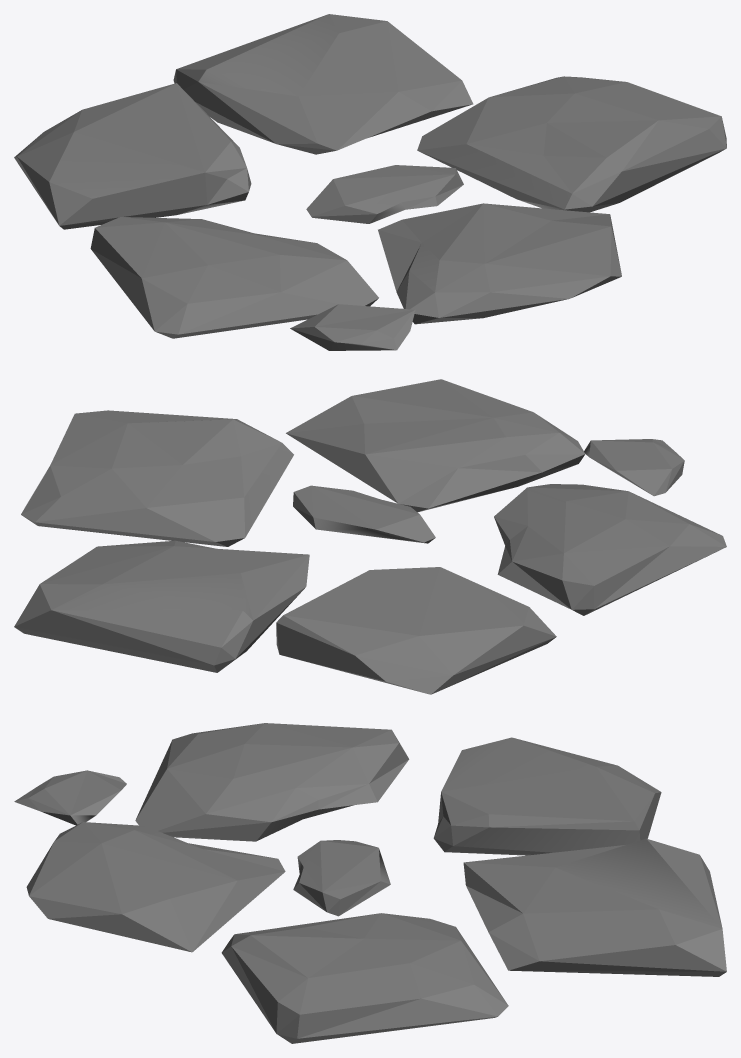
Rendered from Tile_01.fbx.
3 renders of one model, top to bottom at view 1: azimuth 30°, elevation 25°; view 2: azimuth 150°, elevation 25°; view 3: azimuth 270°, elevation 25°, orthographic. The views are drawn at different scales.
Visible parts, largest first — view 1: Tile_01; view 2: Tile_01; view 3: Tile_01.
Part boxes in pixels (bbox=[...]): Tile_01: bbox=[14, 14, 726, 350]; Tile_01: bbox=[14, 379, 726, 694]; Tile_01: bbox=[14, 723, 726, 1043].
Bounding box in the file's own units: 1.84 × 0.1492 × 1.8.
